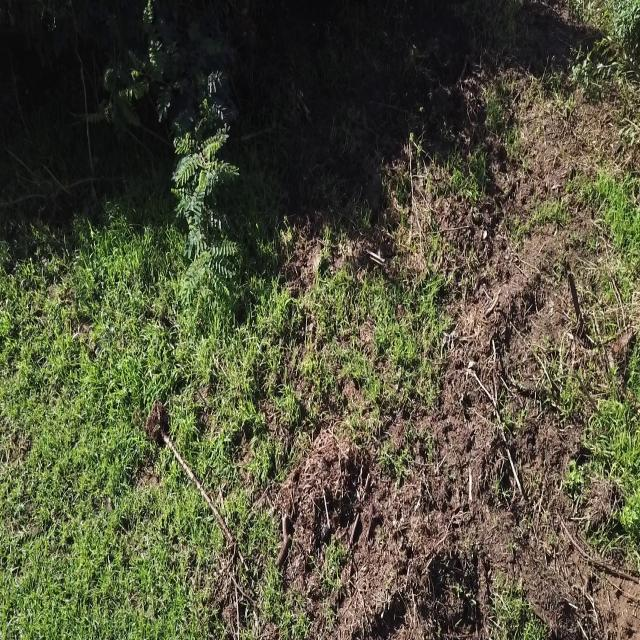Mysore-Thorn-Weed: (132, 42, 248, 306)
